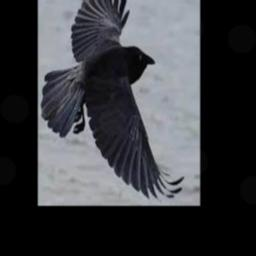Crow: (41, 0, 184, 200)
